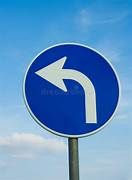left: (23, 41, 120, 137)
